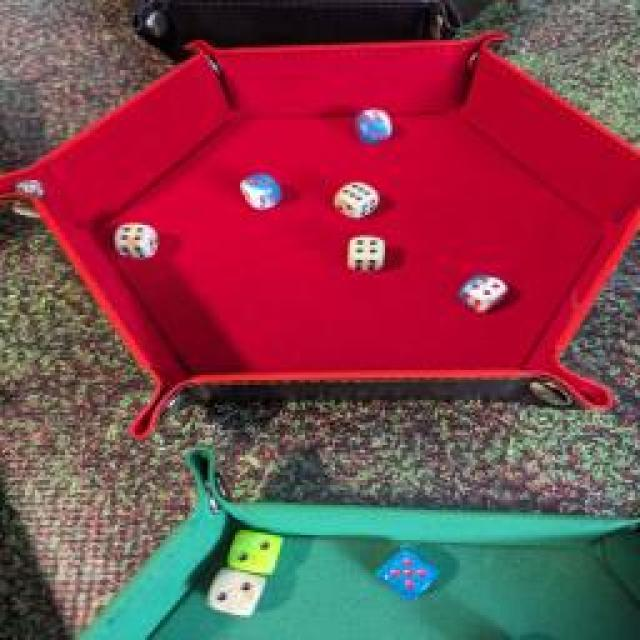dice_2: (218, 522, 290, 576), (202, 564, 270, 618)
dice_3: (238, 171, 284, 211)
dice_4: (454, 269, 506, 316), (342, 232, 390, 272), (110, 222, 160, 258)
dice_5: (372, 551, 436, 599)
dice_6: (331, 178, 384, 220), (344, 108, 396, 144)
